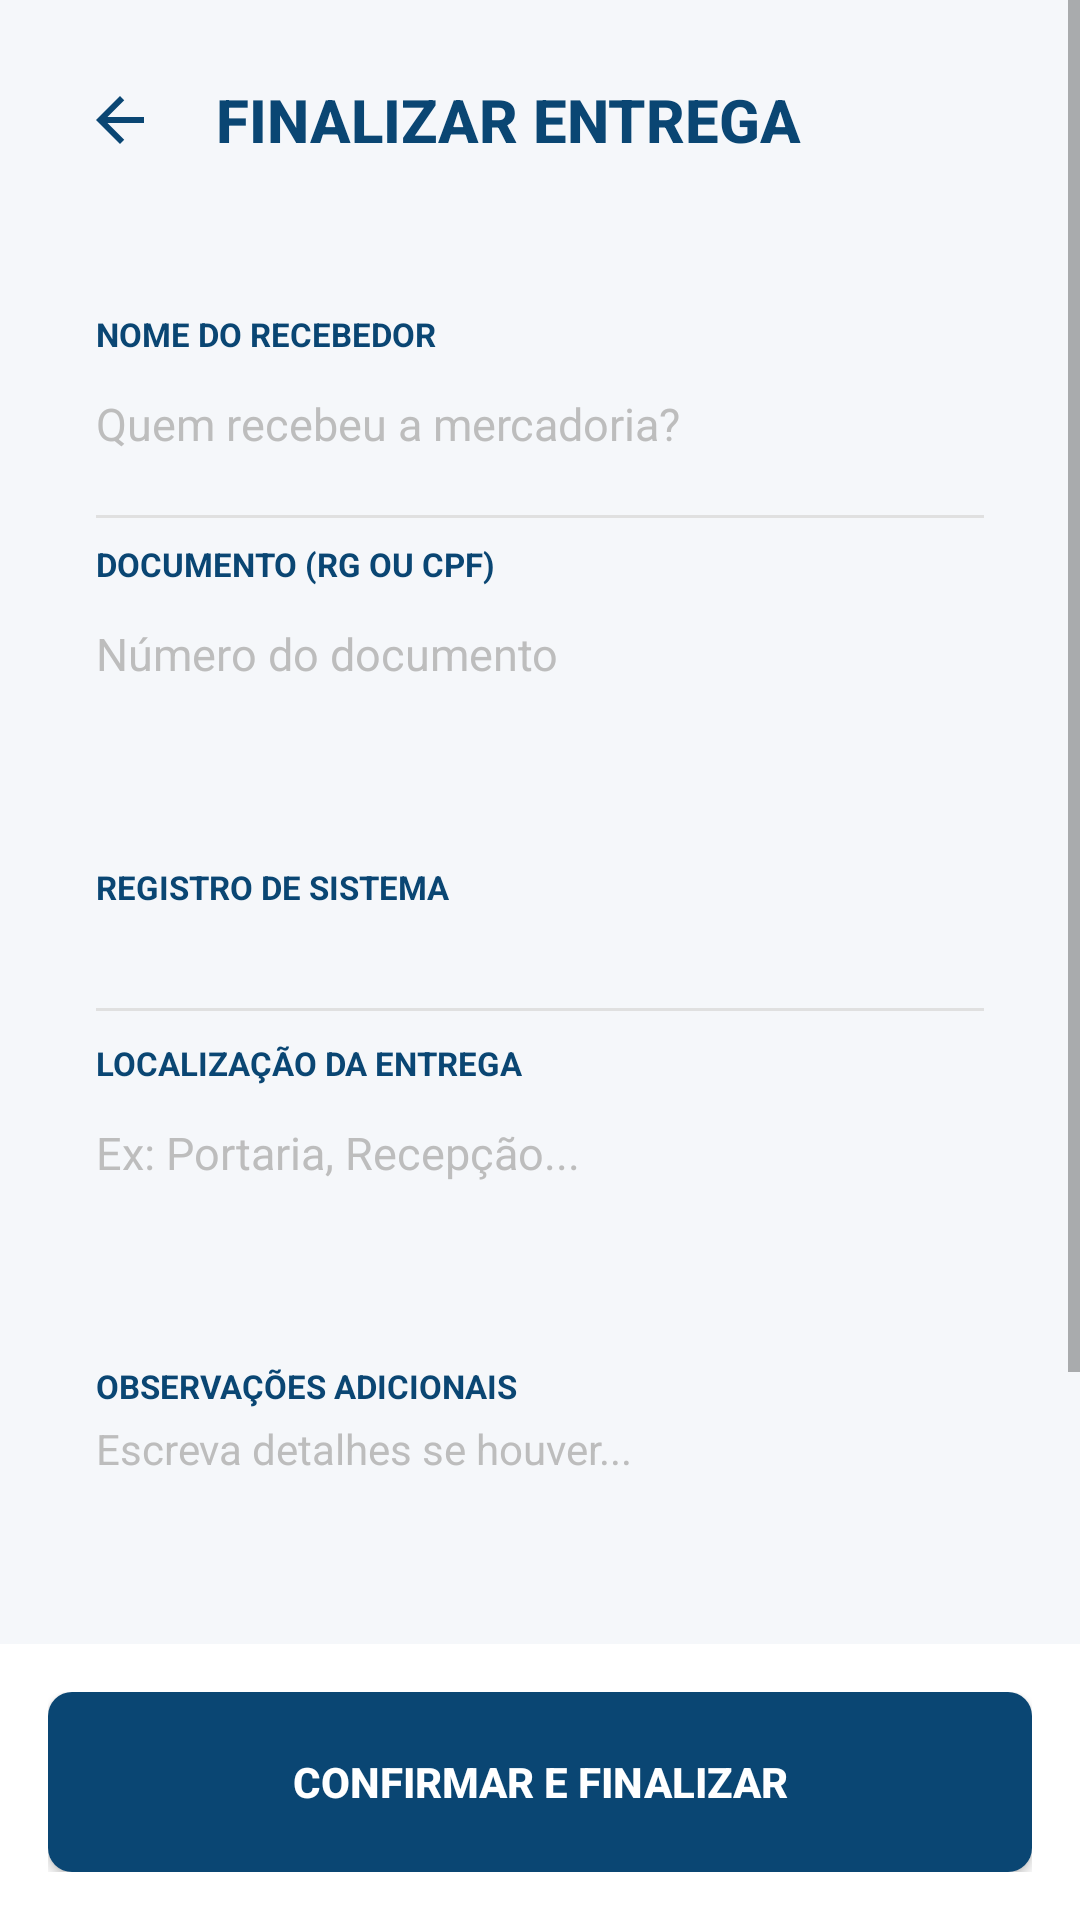

Icons on this 1080 × 1920 Android screen, each with its box as rect(x1, y1, x2, y2):
Voltar: rect(96, 96, 144, 144)
